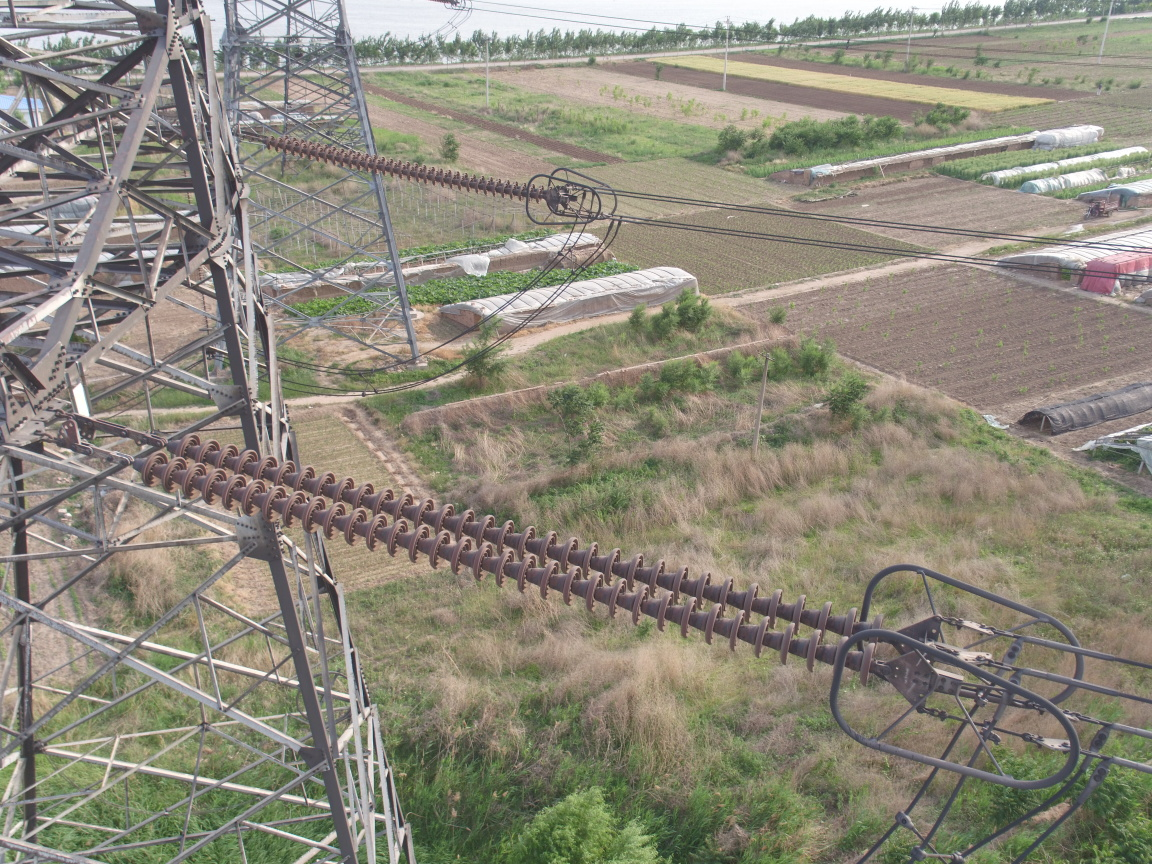insulator: (115, 427, 907, 691), (251, 127, 555, 204)
